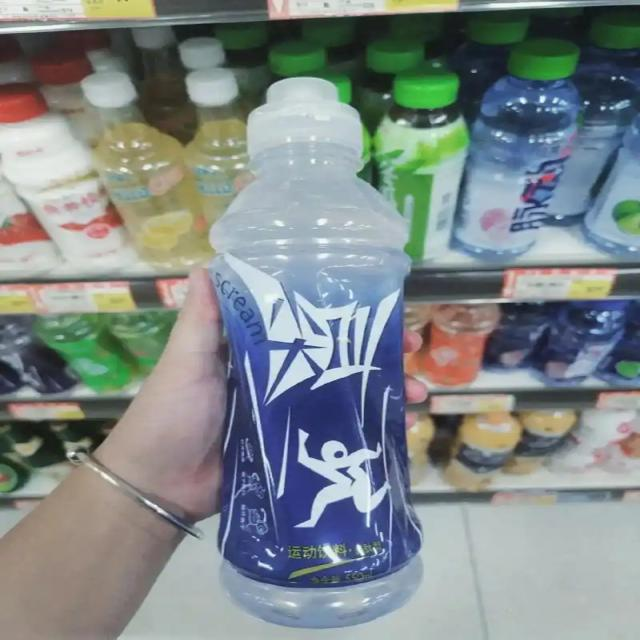bottle: (208, 79, 427, 633), (449, 39, 579, 260), (77, 72, 209, 276), (1, 84, 127, 266), (376, 70, 473, 267), (582, 13, 640, 199), (188, 71, 250, 239), (583, 111, 640, 259), (34, 318, 130, 394), (125, 31, 194, 132), (545, 303, 626, 388), (444, 414, 526, 493), (427, 304, 495, 391), (0, 319, 73, 395), (574, 402, 639, 482), (27, 43, 108, 97), (513, 409, 570, 479), (362, 33, 429, 72), (256, 42, 333, 75), (106, 315, 170, 354), (458, 14, 535, 44), (171, 31, 230, 70), (298, 20, 360, 43)
